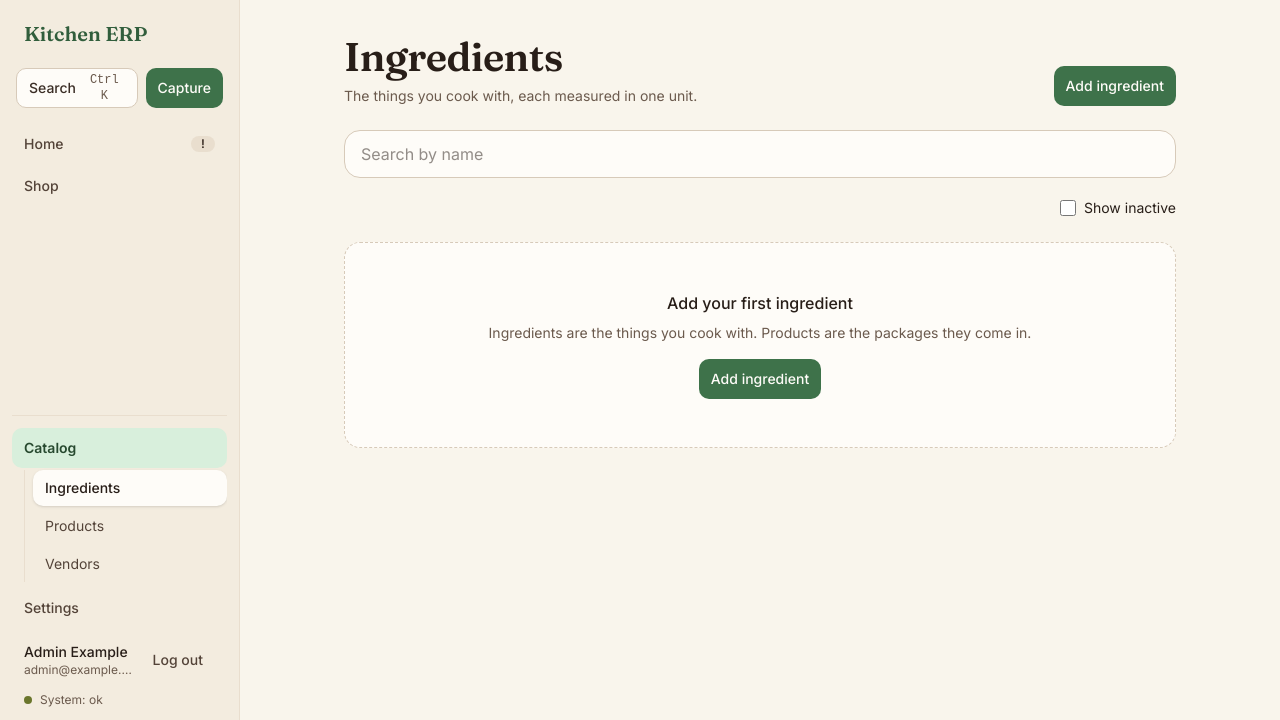
Test: ingredients › fills the density from a USDA suggestion with source usda and queues a measure
Expected: the heading "Ingredients" is shown, x1=344 y1=32 x2=563 y2=81
Click the 1st button "Add ingredient": (1115,86) x1=1054 y1=66 x2=1176 y2=106
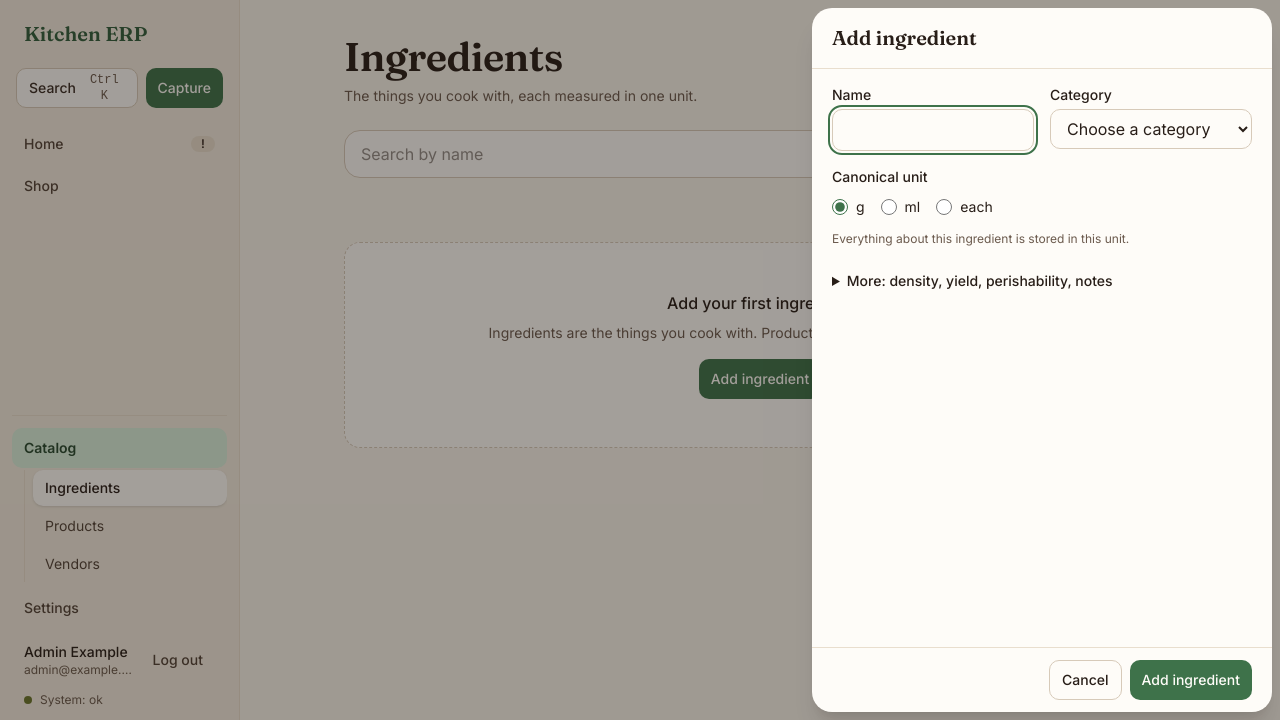
In the field labelled "Name": (933,130) x1=832 y1=109 x2=1034 y2=151, type "all-purpose flour"
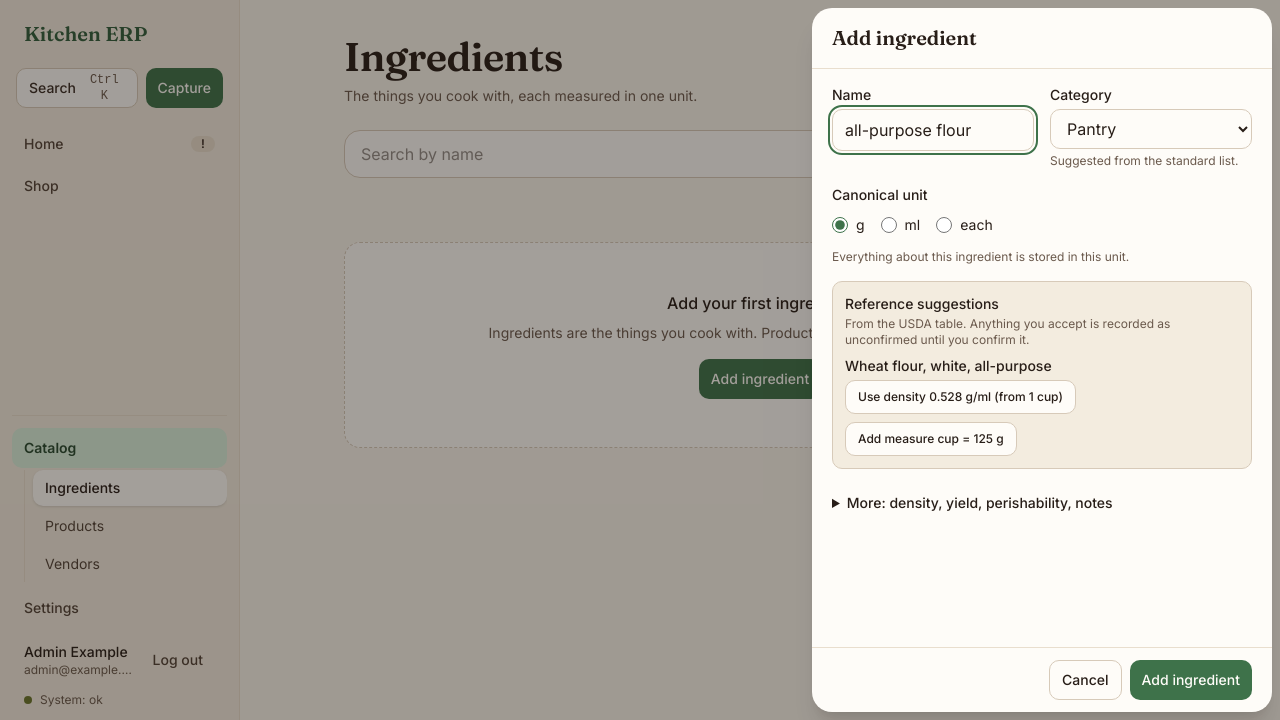
Expected: the dropdown labelled "Category" shows "Pantry", x1=1050 y1=109 x2=1252 y2=149
Click the button "Use density 0.528 g/ml (from 1 cup)": (960,397) x1=845 y1=380 x2=1076 y2=414
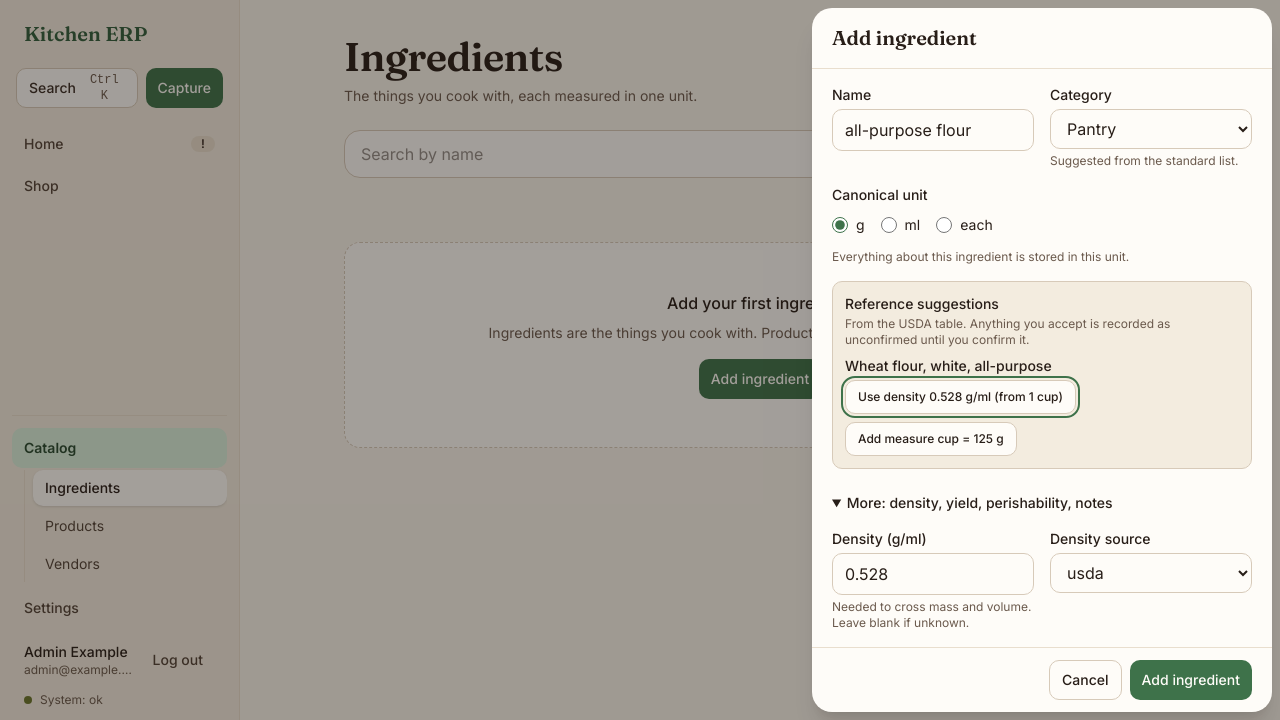
Expected: the field labelled "Density (g/ml)" holds "0.528", x1=832 y1=553 x2=1034 y2=595
Expected: the dropdown labelled "Density source" shows "usda", x1=1050 y1=553 x2=1252 y2=593
Click the button "Add measure cup = 125 g": (931,439) x1=845 y1=422 x2=1017 y2=456
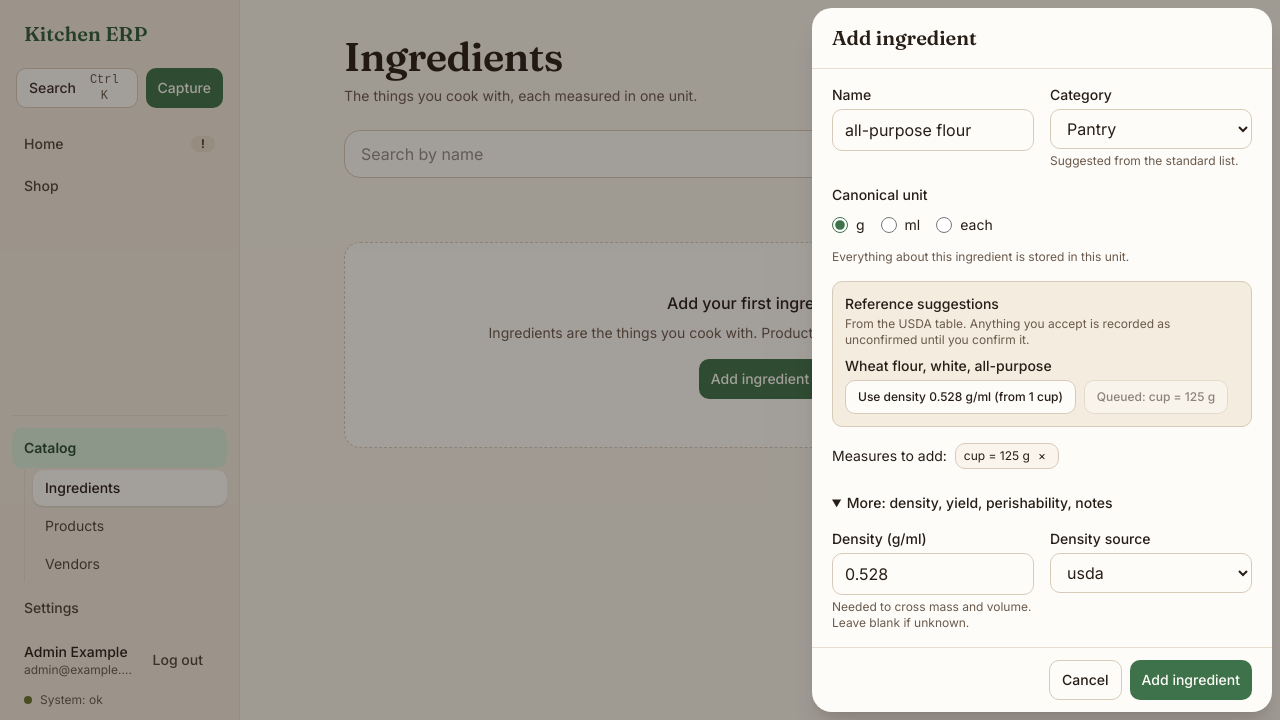
Expected: the element "Measures to add" shows "cup = 125 g", x1=832 y1=443 x2=1059 y2=469
Click the button "Add ingredient": (1191,680) x1=1130 y1=660 x2=1252 y2=700
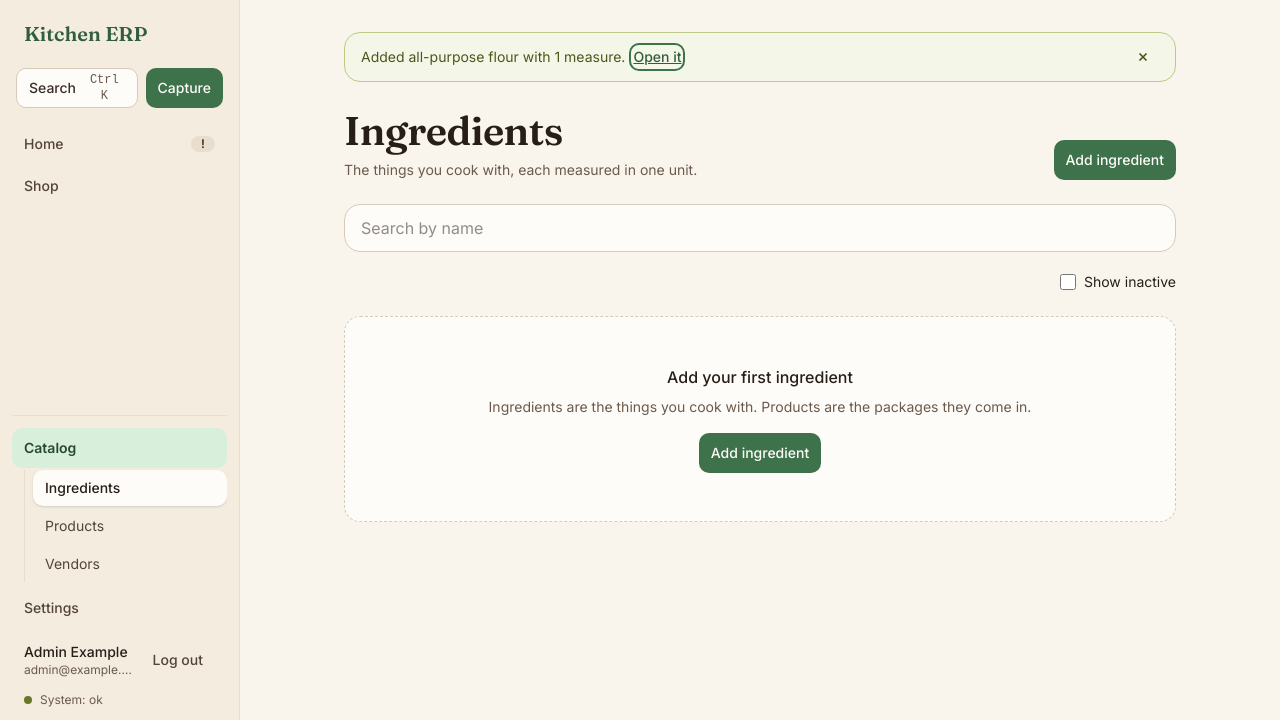
Expected: the message with test id "notice" shows "with 1 measure", x1=361 y1=48 x2=625 y2=65
